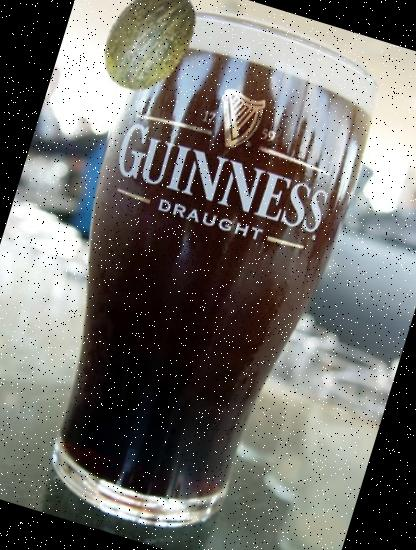Melon: (82, 0, 221, 109)
